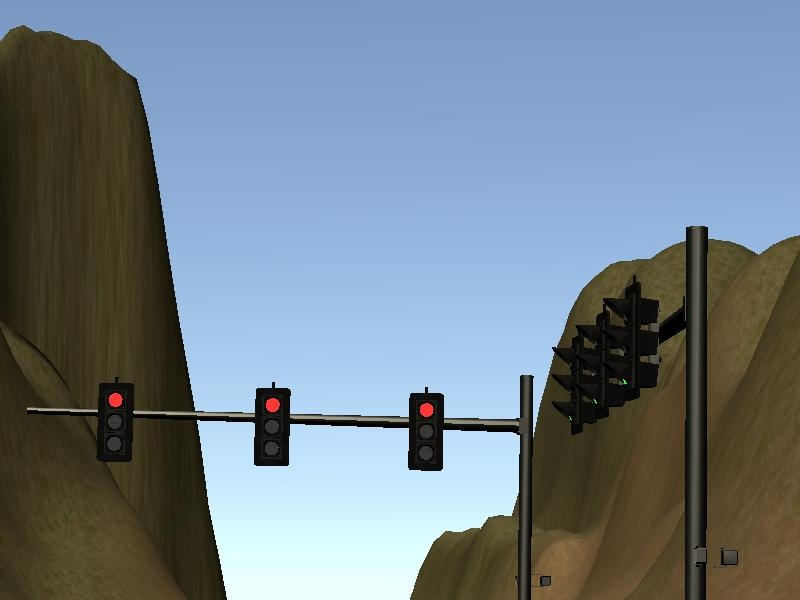RED: (252, 387, 289, 466), (407, 391, 444, 470), (97, 383, 134, 462)
